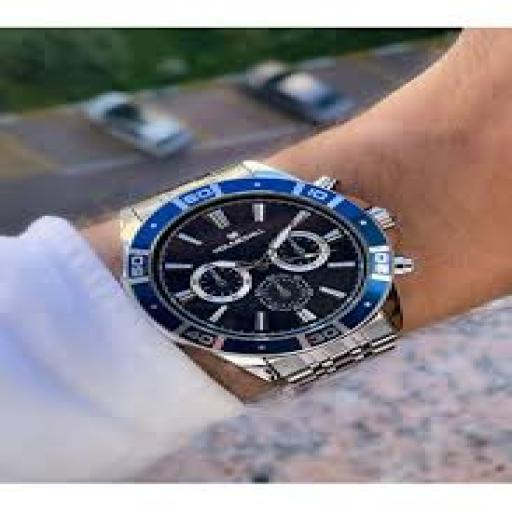KolSaati: (68, 156, 452, 398)
